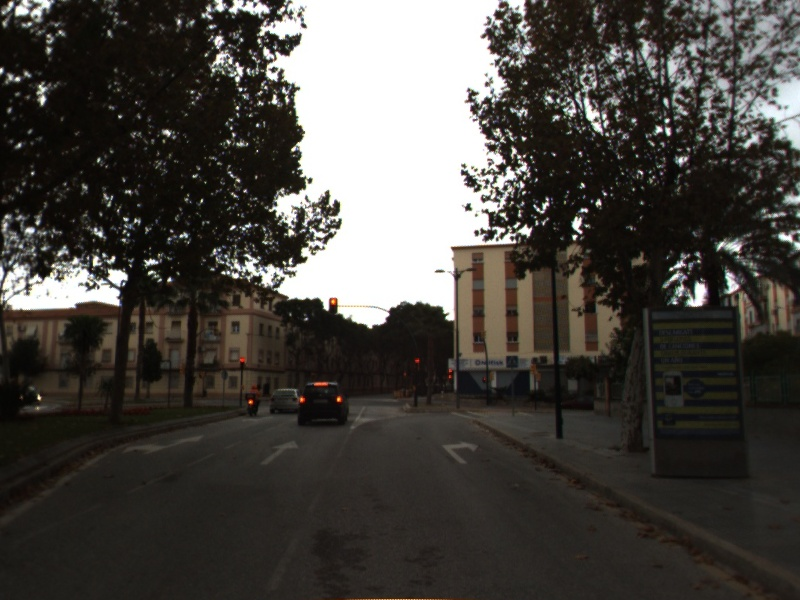RIGHT: (440, 438, 482, 466)
STRAIGHT: (258, 437, 302, 467)
STRAIGHT_LEFT: (119, 433, 207, 456)
